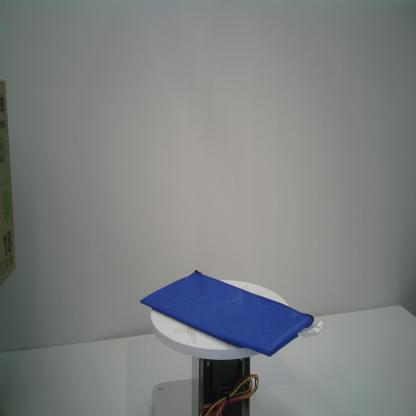Stationery: (140, 269, 315, 358)
